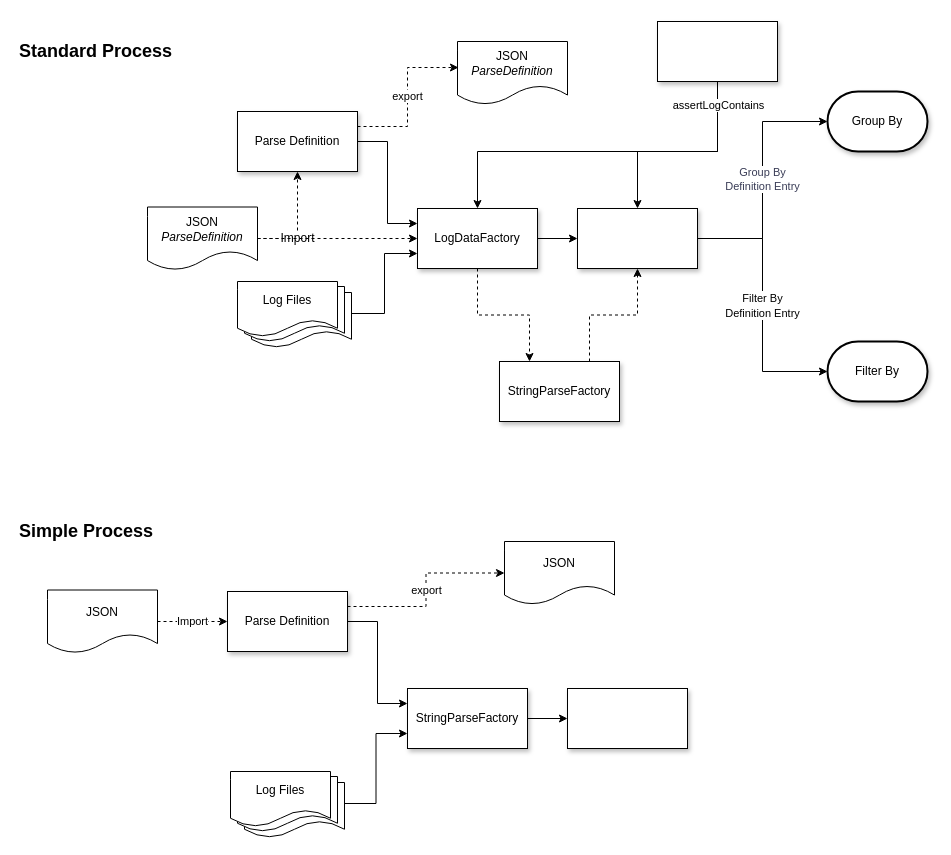
Image size: 951x855. Some labels were removed from this diagram. The centre of each missing label's shape, as x and y in pixels:
AsserLogData: pixel 718 52
LogData: pixel 638 240
Map<Key, StdLogData>: pixel 628 720
